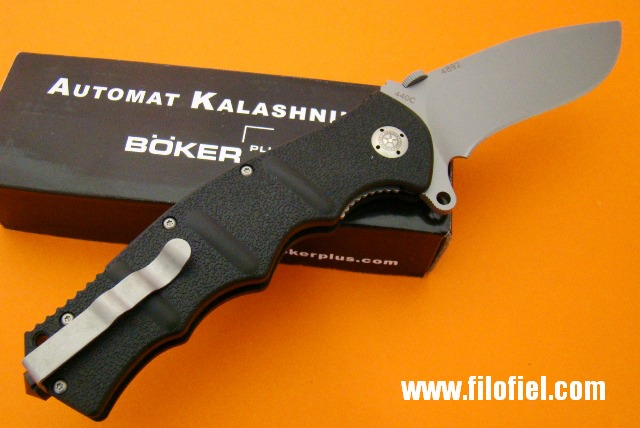knife: (368, 16, 632, 225)
